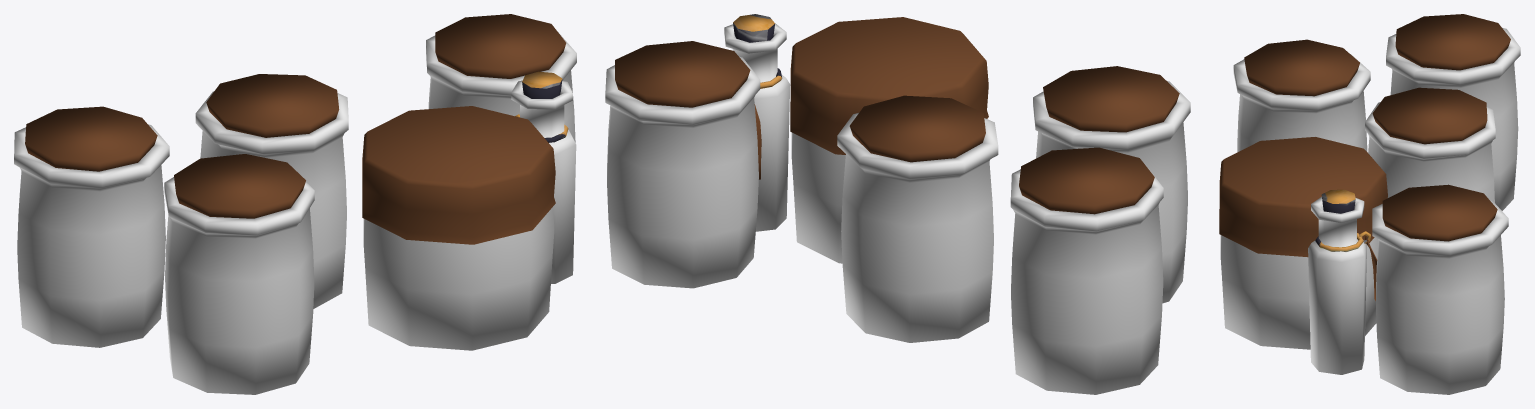
Rendered from combination10LP.fbx.
The picture shows the model from 3 angles, left to right: view 1: azimuth 30°, elevation 25°; view 2: azimuth 150°, elevation 25°; view 3: azimuth 270°, elevation 25°; orthographic projection. The views are drawn at different scales.
Visible parts, largest first — view 1: glassC10, potionC10; view 2: glassC10, potionC10; view 3: glassC10, potionC10.
Boxes of the visible parts, bbox=[...] form: glassC10: bbox=[14, 31, 576, 394]; potionC10: bbox=[25, 14, 568, 244]; glassC10: bbox=[605, 23, 1190, 394]; potionC10: bbox=[615, 14, 1179, 214]; glassC10: bbox=[1220, 27, 1520, 394]; potionC10: bbox=[1219, 14, 1510, 300].
Size of the model in its own units: 214 by 73.17 by 120.
